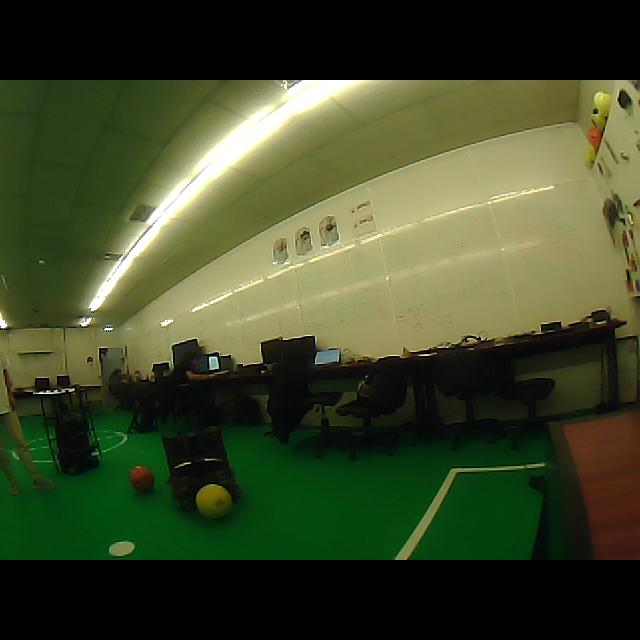ball: (196, 484, 232, 518), (591, 90, 612, 129), (130, 466, 155, 492), (592, 90, 612, 116), (588, 128, 602, 151)
robot: (162, 428, 240, 509), (33, 388, 102, 474)
